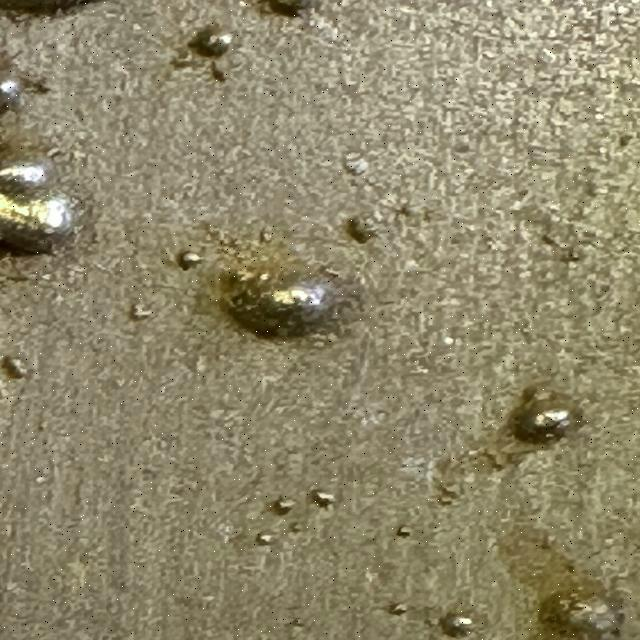Spatters: (222, 260, 335, 336), (538, 582, 625, 640), (0, 189, 72, 252), (510, 388, 582, 444), (0, 155, 55, 192), (188, 26, 233, 58), (343, 216, 377, 244), (440, 614, 473, 638), (0, 81, 22, 114), (2, 356, 28, 379), (177, 251, 203, 270), (312, 490, 335, 508), (130, 304, 152, 321), (272, 499, 295, 515), (212, 62, 227, 82), (387, 602, 408, 615), (257, 532, 277, 545), (260, 226, 273, 244), (398, 525, 412, 538)
